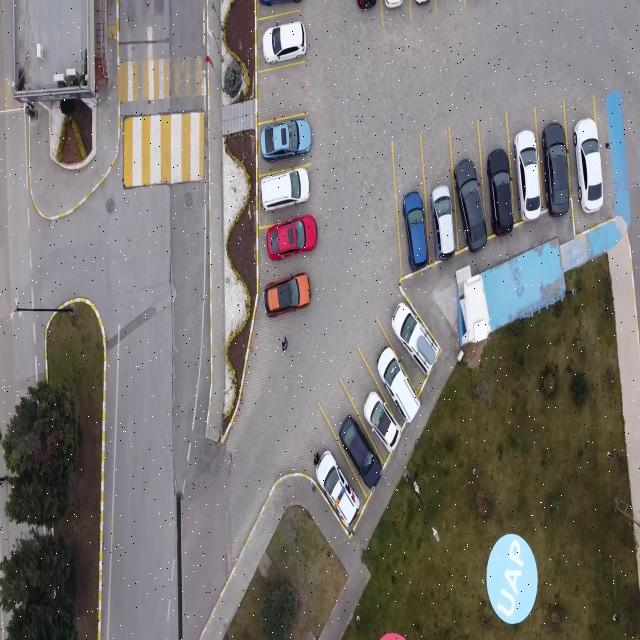people: (282, 337, 288, 350), (314, 452, 320, 465)
